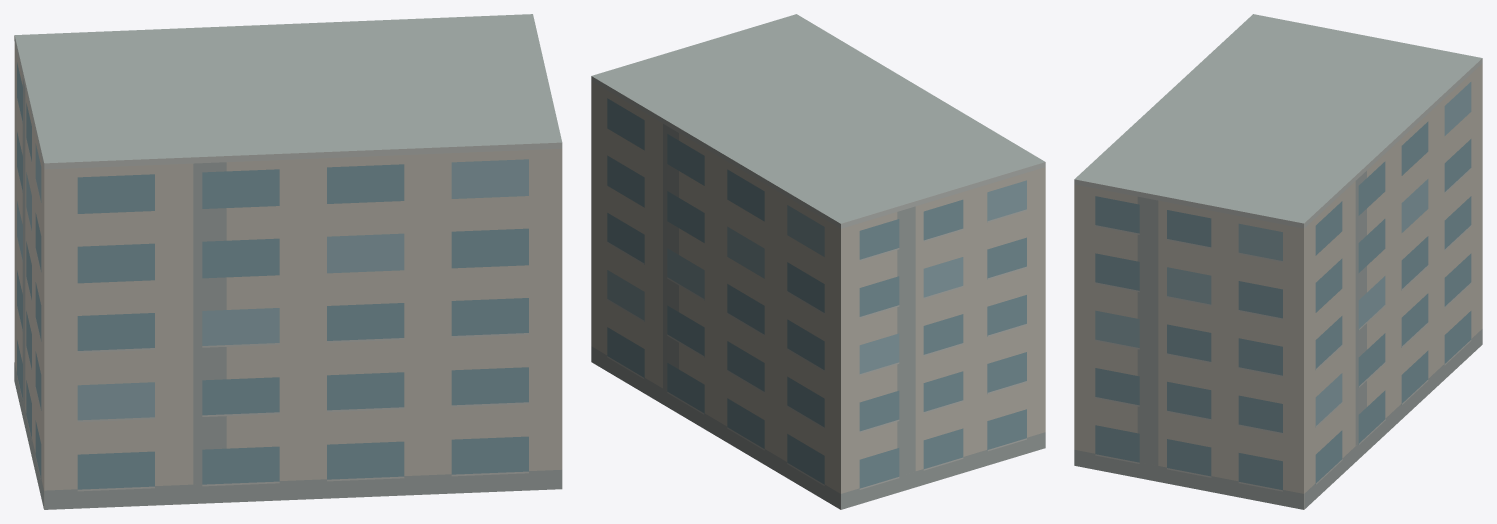
File: survey-upis-32860623.glb
The picture shows the model from 3 angles, left to right: view 1: azimuth 30°, elevation 25°; view 2: azimuth 150°, elevation 25°; view 3: azimuth 270°, elevation 25°; orthographic projection. The views are drawn at different scales.
Visible parts, largest first — view 1: survey-upis-32860623.tmp; view 2: survey-upis-32860623.tmp; view 3: survey-upis-32860623.tmp.
Part boxes in pixels (x1,y1,x2,y2): survey-upis-32860623.tmp: [14, 14, 562, 509]; survey-upis-32860623.tmp: [591, 14, 1045, 509]; survey-upis-32860623.tmp: [1074, 14, 1482, 509].
Bounding box in the file's own units: 21.51 × 13.7 × 17.71.
